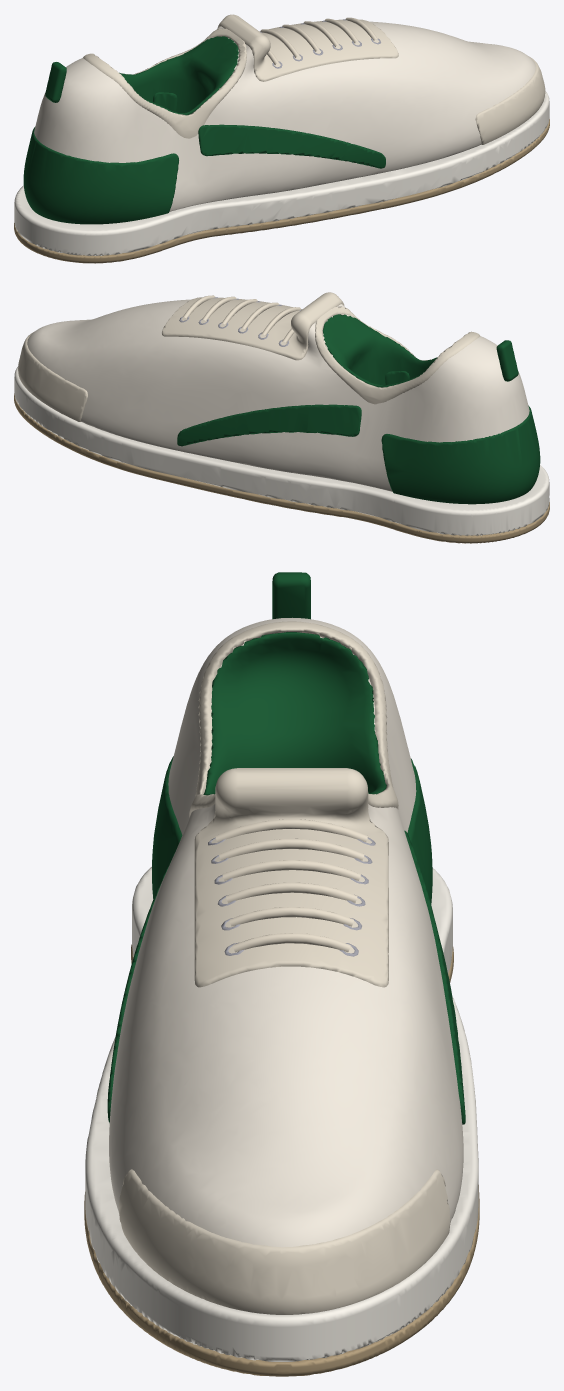
Rendered from urban-street-pro.glb.
3 views of the same model, one above another, from view 1: azimuth 30°, elevation 25°; view 2: azimuth 150°, elevation 25°; view 3: azimuth 270°, elevation 25° (orthographic). The views are drawn at different scales.
Parts seen in each view (by area): view 1: upper, midsole, heel_counter, collar, lining, outsole, object 7; view 2: upper, midsole, heel_counter, collar, outsole, lining, object 7; view 3: upper, collar, midsole, lining, heel_counter, object 7, outsole, object 8.
Part boxes in pixels (left/top/right/bottom): upper: left=34, top=21, right=535, bottom=211; midsole: left=14, top=91, right=549, bottom=255; heel_counter: left=23, top=62, right=385, bottom=224; collar: left=83, top=14, right=545, bottom=144; lining: left=119, top=36, right=238, bottom=115; outsole: left=14, top=118, right=549, bottom=263; object 7: left=260, top=17, right=377, bottom=64; upper: left=27, top=299, right=529, bottom=491; midsole: left=14, top=366, right=549, bottom=535; heel_counter: left=177, top=340, right=540, bottom=504; collar: left=18, top=292, right=479, bottom=421; outsole: left=14, top=393, right=549, bottom=543; lining: left=322, top=314, right=436, bottom=387; object 7: left=183, top=295, right=301, bottom=343; upper: left=109, top=617, right=463, bottom=1247; collar: left=119, top=621, right=450, bottom=1314; midsole: left=85, top=867, right=478, bottom=1361; lining: left=203, top=632, right=386, bottom=795; heel_counter: left=107, top=572, right=465, bottom=1124; object 7: left=215, top=819, right=367, bottom=952; outsole: left=84, top=944, right=479, bottom=1376; object 8: left=208, top=837, right=375, bottom=956.
Bounding box in the file's own units: 0.9816 × 0.3186 × 0.3256.
